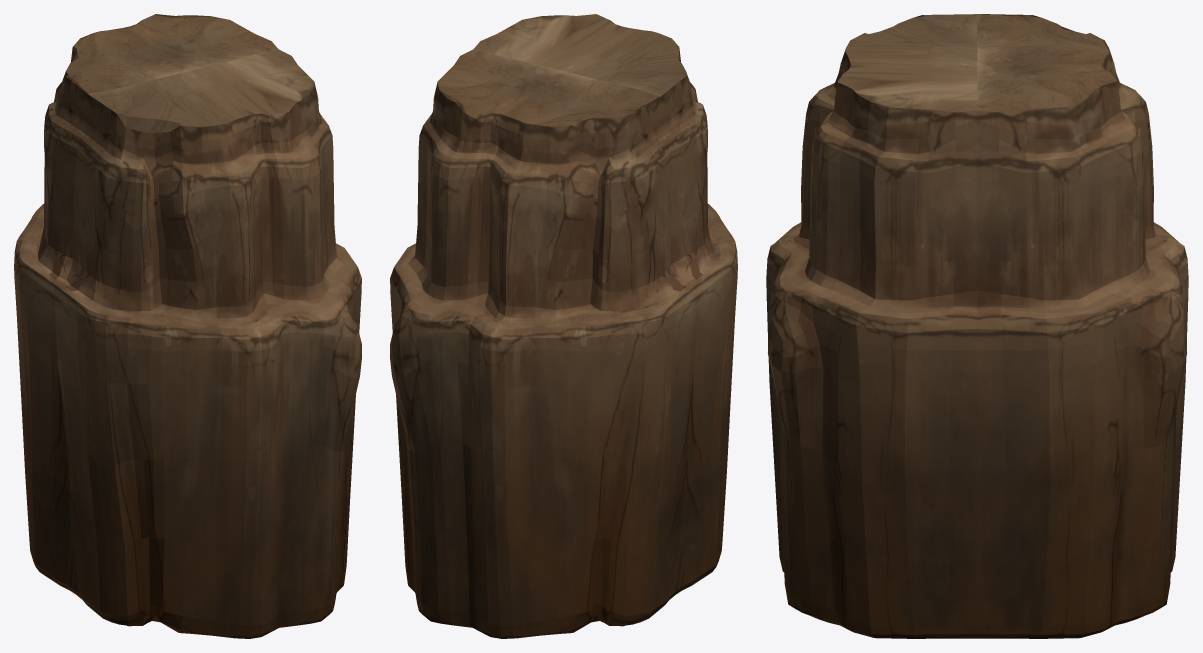
File: TerrainIlot.fbx
3 renders of one model, left to right at view 1: azimuth 30°, elevation 25°; view 2: azimuth 150°, elevation 25°; view 3: azimuth 270°, elevation 25°, orthographic. The views are drawn at different scales.
Visible parts, largest first — view 1: MontainCut001; view 2: MontainCut001; view 3: MontainCut001.
Part boxes in pixels (x1,y1,x2,y2): MontainCut001: [14, 14, 361, 638]; MontainCut001: [390, 14, 737, 638]; MontainCut001: [766, 14, 1188, 638].
Size of the model in its own units: 1305 by 2358 by 1731.
